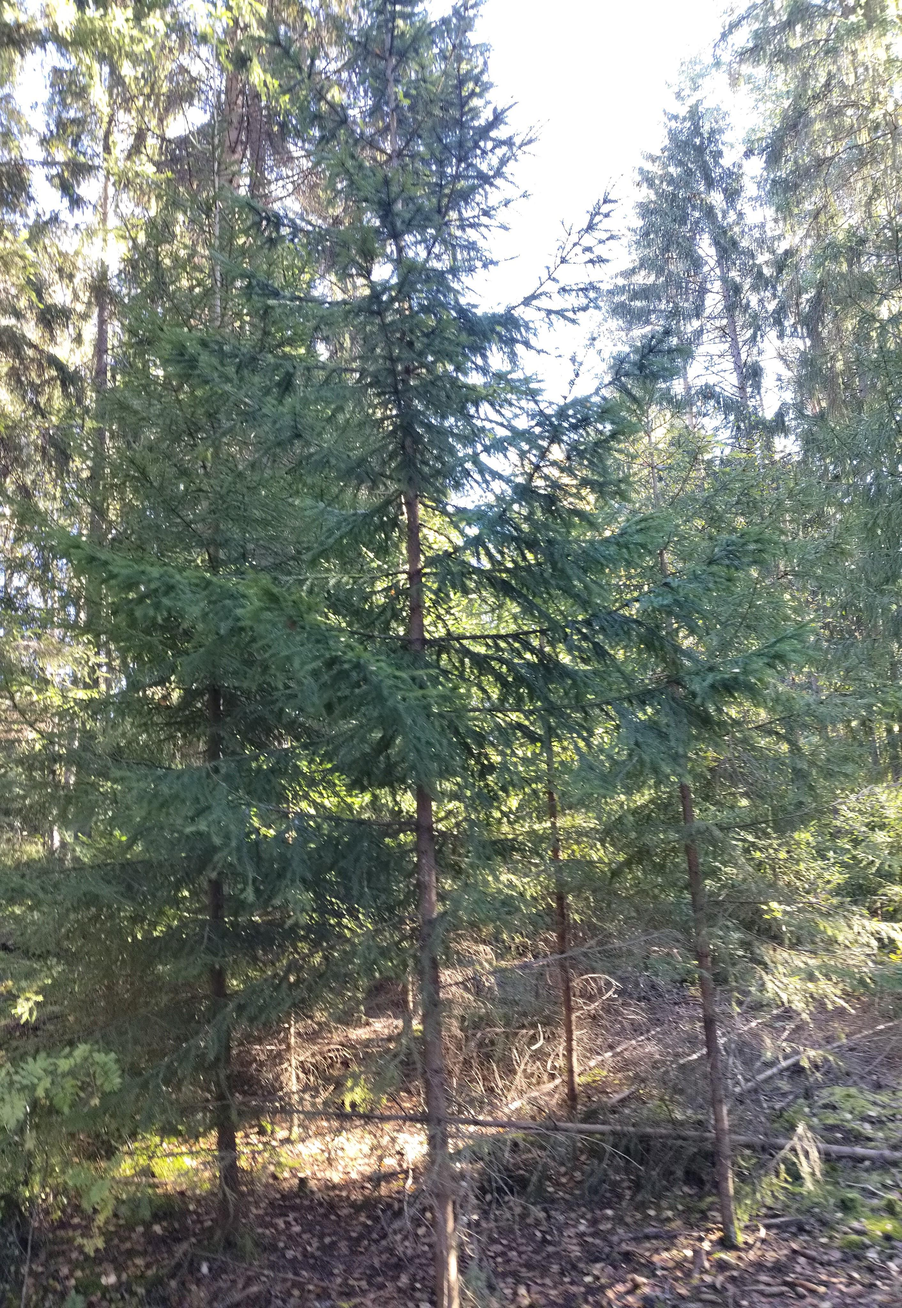Spruce: (2, 1, 899, 1257), (259, 0, 565, 1308), (65, 163, 343, 1217), (467, 454, 800, 1256)
